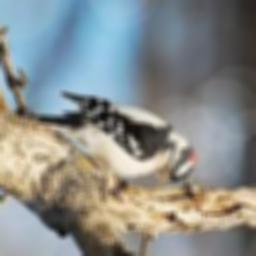Woodpecker: (16, 93, 195, 189)
